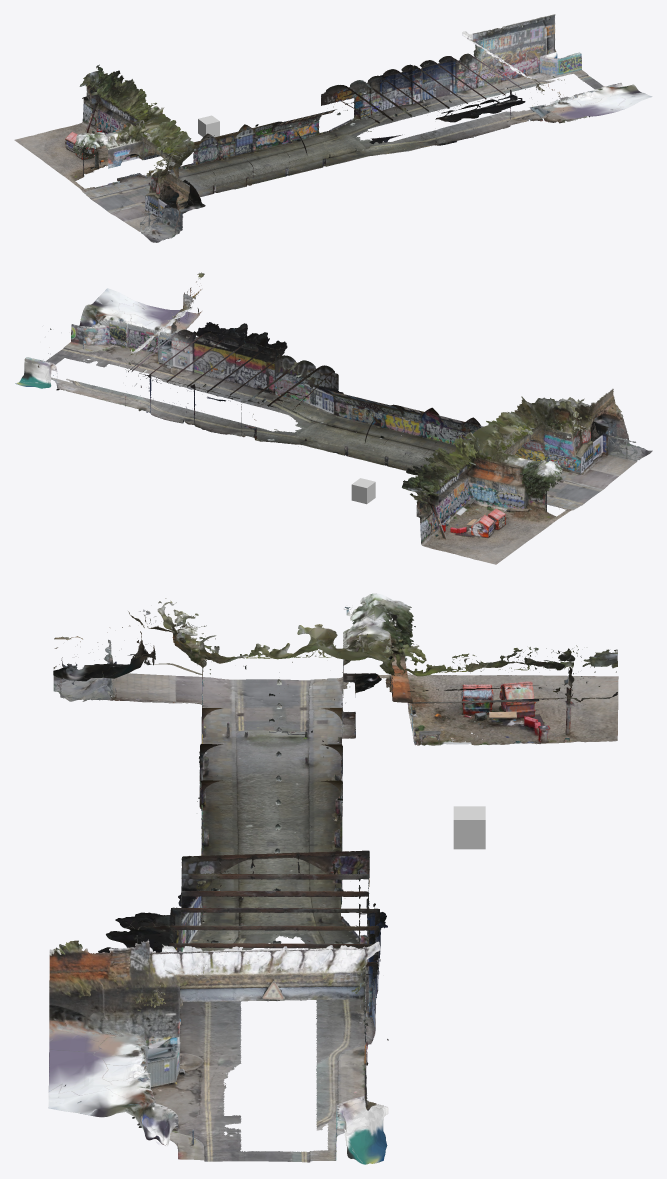
The model's file is tunnel.glb.
3 renders of one model, top to bottom at view 1: azimuth 30°, elevation 25°; view 2: azimuth 150°, elevation 25°; view 3: azimuth 270°, elevation 25°, orthographic. The views are drawn at different scales.
Visible parts, largest first — view 1: Object_2, Cube; view 2: Object_2, Cube; view 3: Object_2, Cube.
Boxes of the visible parts, x1,y1,x2,y2 form: Object_2: (14, 14, 652, 242); Cube: (198, 115, 219, 137); Object_2: (15, 272, 652, 564); Cube: (351, 478, 375, 504); Object_2: (48, 593, 618, 1164); Cube: (453, 806, 485, 849).
Bounding box in the file's own units: 71.54 × 9.66 × 35.39.
2 materials, 1 textured.
